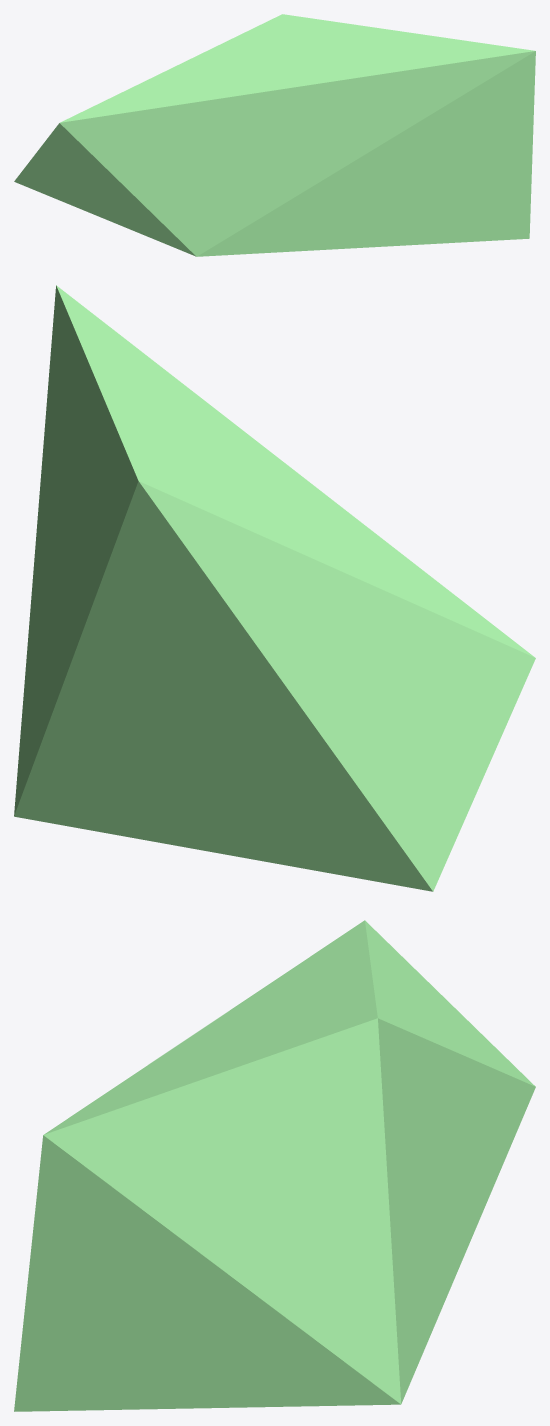
File: palle_scrotali_buone_L3_dx_respondable_TOOL1_coll_2.dae
3 views of the same model, one above another, from view 1: azimuth 30°, elevation 25°; view 2: azimuth 150°, elevation 25°; view 3: azimuth 270°, elevation 25° (orthographic). The views are drawn at different scales.
Visible parts, largest first — view 1: Node_000002334E243BC0; view 2: Node_000002334E243BC0; view 3: Node_000002334E243BC0.
Part boxes in pixels (<box>): Node_000002334E243BC0: <box>14,14,535,256</box>; Node_000002334E243BC0: <box>14,285,535,891</box>; Node_000002334E243BC0: <box>14,920,535,1411</box>.
Bounding box in the file's own units: 0.00257 × 0.00135 × 0.00189.
